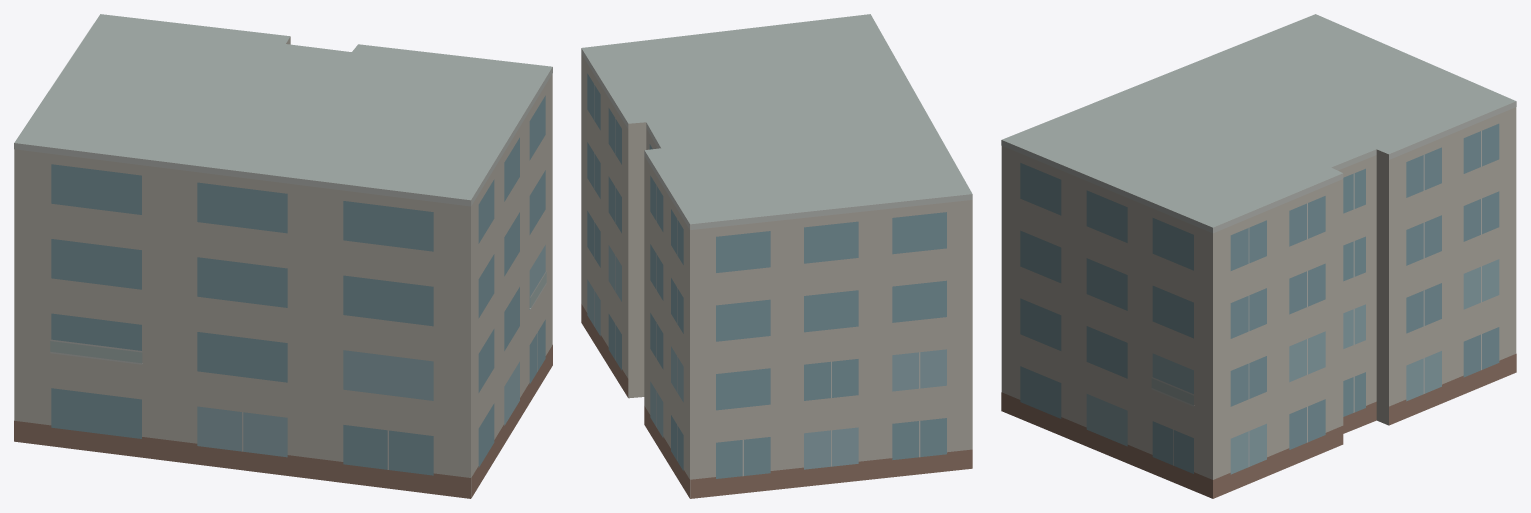
Rendered from survey-upis-32671293.glb.
3 views of the same model, side by side, from view 1: azimuth 30°, elevation 25°; view 2: azimuth 150°, elevation 25°; view 3: azimuth 270°, elevation 25° (orthographic). The views are drawn at different scales.
Visible parts, largest first — view 1: survey-upis-32671293.tmp; view 2: survey-upis-32671293.tmp; view 3: survey-upis-32671293.tmp.
Part boxes in pixels (x1=…): survey-upis-32671293.tmp: x1=14, y1=14, x2=552, y2=498; survey-upis-32671293.tmp: x1=581, y1=14, x2=972, y2=498; survey-upis-32671293.tmp: x1=1001, y1=14, x2=1516, y2=498.
Size of the model in its own units: 19.53 by 11.55 by 19.89.
